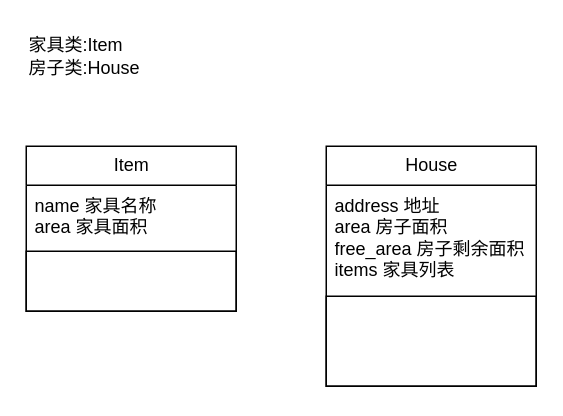
The diagram is 563 pixels wide and 416 high, and some of its shapes have lost their labels. The shapes that lost their labels are listed below. From the top down, each one's centre as x and y in pixels, then its label:
At (130,280): "__init__(self) __str__(self)".
At (430,340): "__init__(self) __str__(self) add_item(self,item)".
